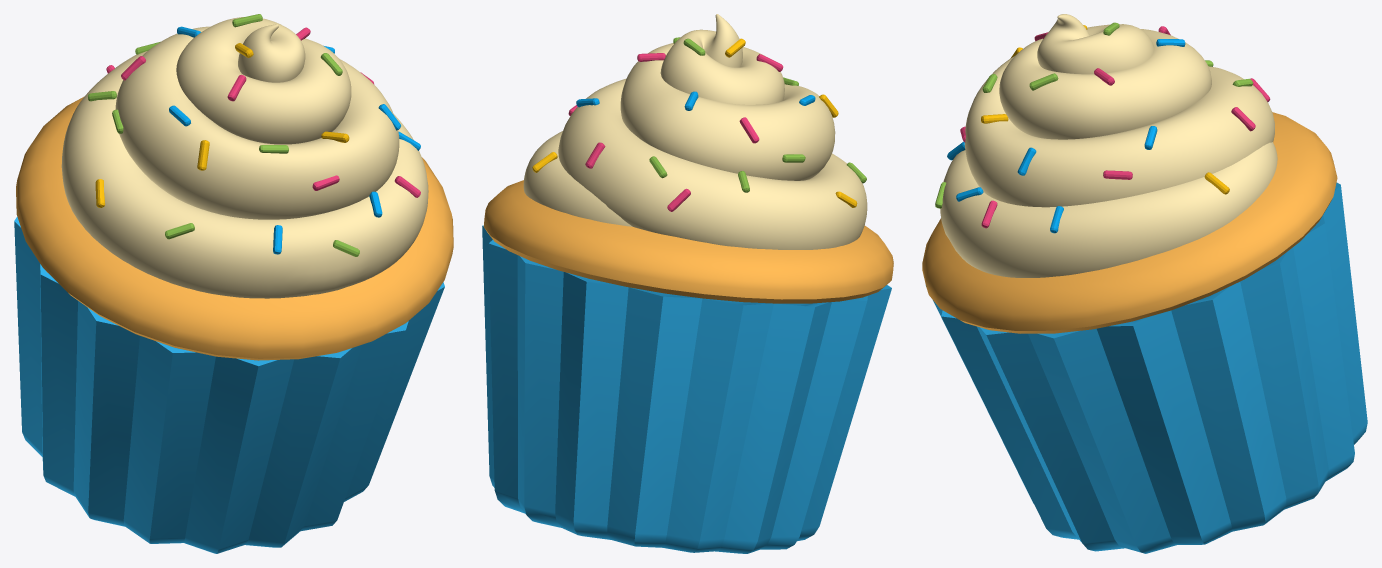
File: cupcake.glb
The picture shows the model from 3 angles, left to right: view 1: azimuth 30°, elevation 25°; view 2: azimuth 150°, elevation 25°; view 3: azimuth 270°, elevation 25°; orthographic projection. The views are drawn at different scales.
Parts seen in each view (by area): view 1: Circle.2259; view 2: Circle.2259; view 3: Circle.2259.
Part boxes in pixels (box(x1,y1,x2,y2)): Circle.2259: box(14, 14, 453, 553); Circle.2259: box(482, 14, 893, 553); Circle.2259: box(922, 14, 1367, 553).
Size of the model in its own units: 1.71 by 2.2 by 1.77.
1 material, 1 textured.
